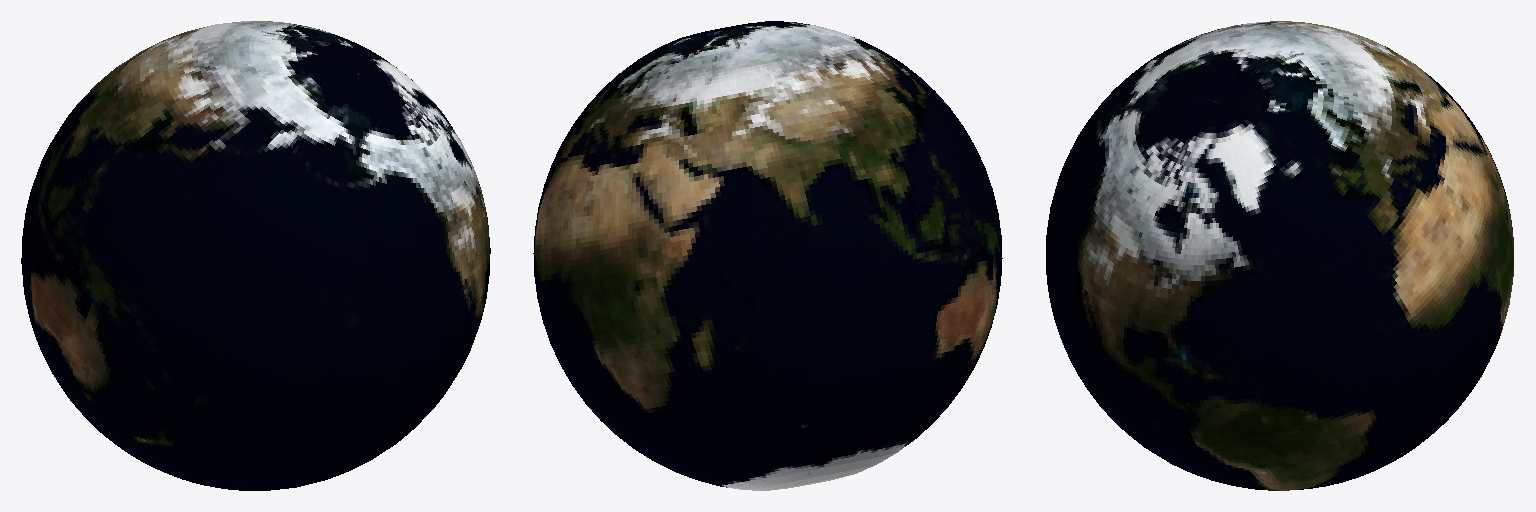
3 renders of one model, left to right at view 1: azimuth 30°, elevation 25°; view 2: azimuth 150°, elevation 25°; view 3: azimuth 270°, elevation 25°, orthographic.
Visible parts, largest first — view 1: Sphere; view 2: Sphere; view 3: Sphere.
Part boxes in pixels (x1,y1,x2,y2): Sphere: (21, 21, 490, 490); Sphere: (533, 21, 1002, 490); Sphere: (1046, 21, 1513, 490).
Bounding box in the file's own units: 1.98 × 1.99 × 1.98.
1 materials, 1 textured.